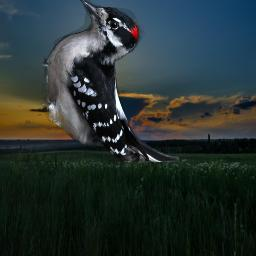Woodpecker: (42, 0, 179, 162)
